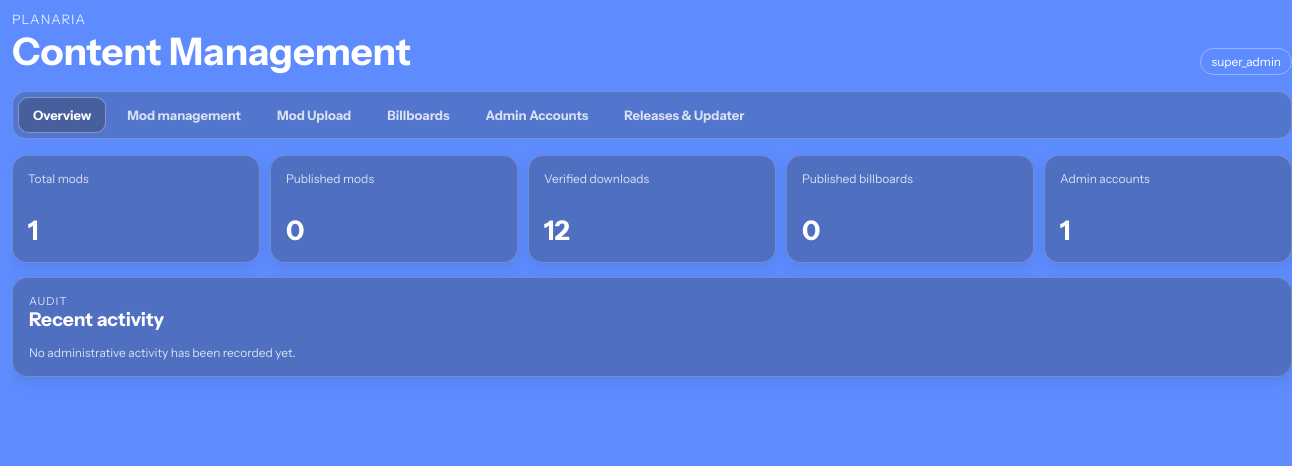
it: Planaria dashboard › keeps admin creation behind server-provided management permission
Expected: the text "Total mods" is shown, [28,171,89,186]
Click the button "Admin Accounts" at (537, 115), box [470,97,603,133]
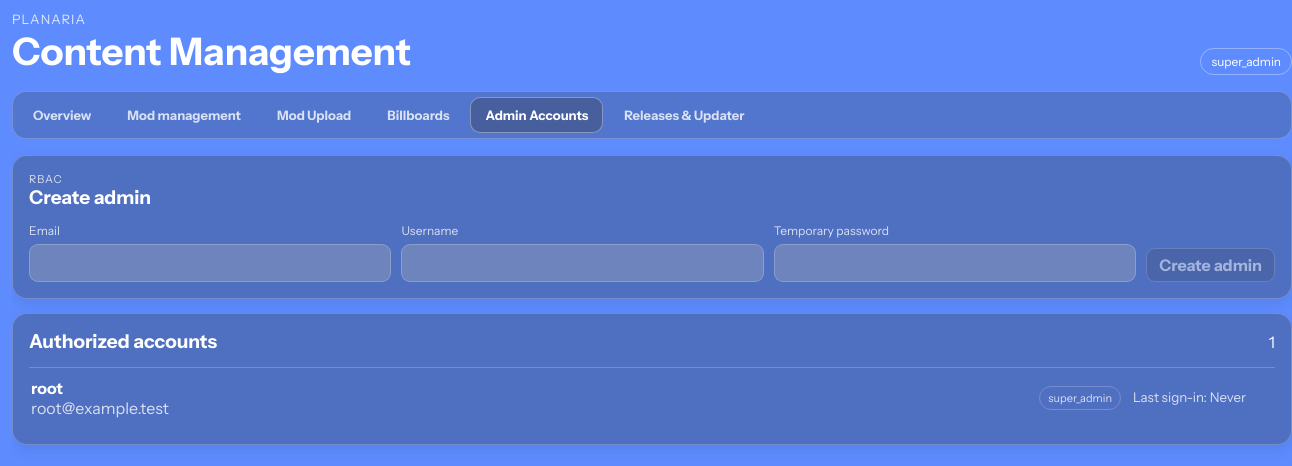
Result: the button "Create admin" is shown at [1146,248,1275,282]
Result: the text "root@example.test" is shown at [31,398,169,418]
